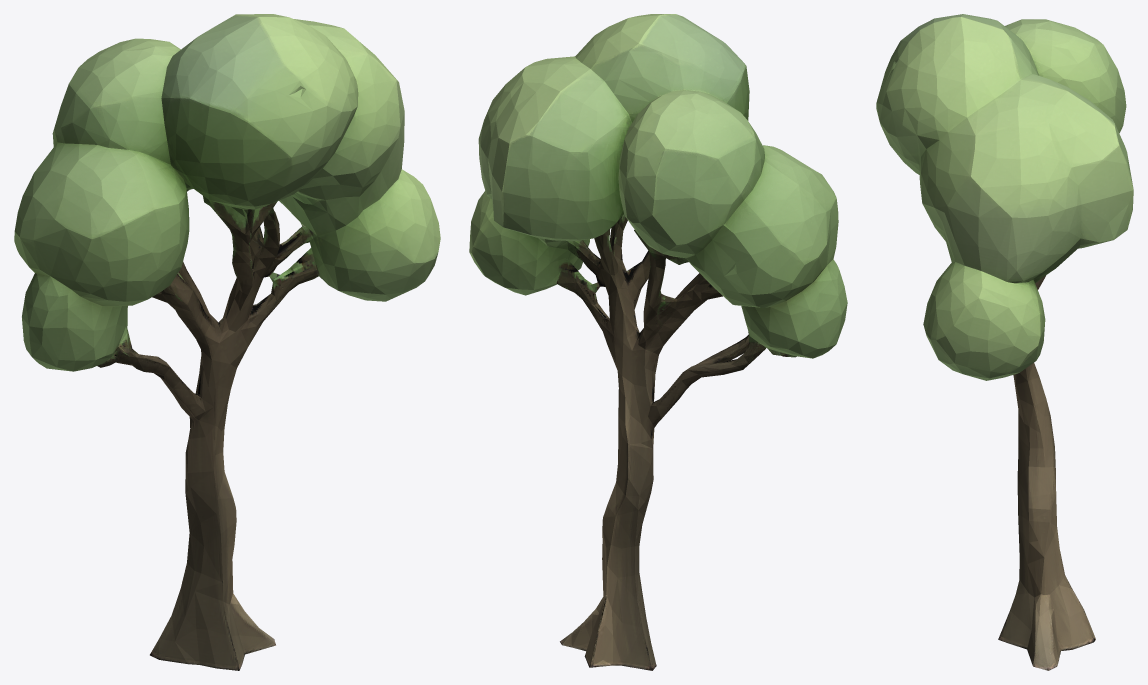
3 renders of one model, left to right at view 1: azimuth 30°, elevation 25°; view 2: azimuth 150°, elevation 25°; view 3: azimuth 270°, elevation 25°, orthographic. The views are drawn at different scales.
Visible parts, largest first — view 1: world; view 2: world; view 3: world.
Part boxes in pixels (box(x1,y1,x2,y2)): world: box(14, 14, 440, 670); world: box(469, 14, 847, 670); world: box(876, 14, 1133, 670).
Bounding box in the file's own units: 0.4256 × 0.6855 × 0.2557.
Materials: 1 (1 with a texture image).
